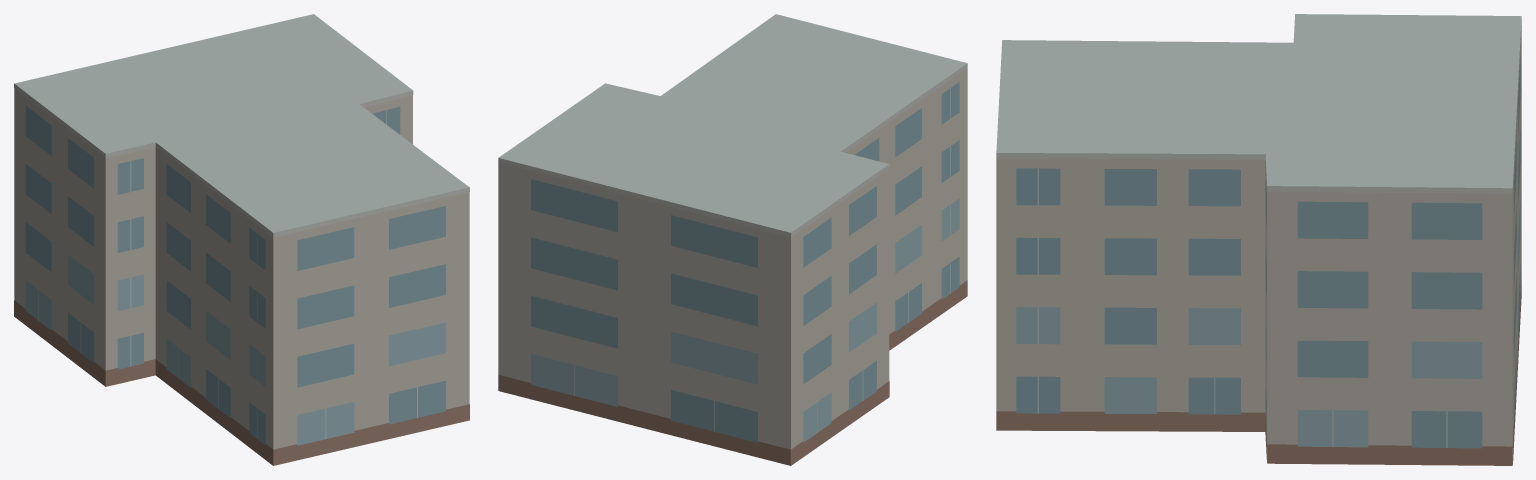
Rendered from survey-upis-32924222.glb.
3 renders of one model, left to right at view 1: azimuth 30°, elevation 25°; view 2: azimuth 150°, elevation 25°; view 3: azimuth 270°, elevation 25°, orthographic. The views are drawn at different scales.
Parts seen in each view (by area): view 1: survey-upis-32924222.tmp; view 2: survey-upis-32924222.tmp; view 3: survey-upis-32924222.tmp.
Part boxes in pixels (box(x1,y1,x2,y2)): survey-upis-32924222.tmp: box(14, 14, 469, 465); survey-upis-32924222.tmp: box(498, 14, 967, 465); survey-upis-32924222.tmp: box(996, 14, 1521, 465).
Bounding box in the file's own units: 16.69 × 12.4 × 21.27.
